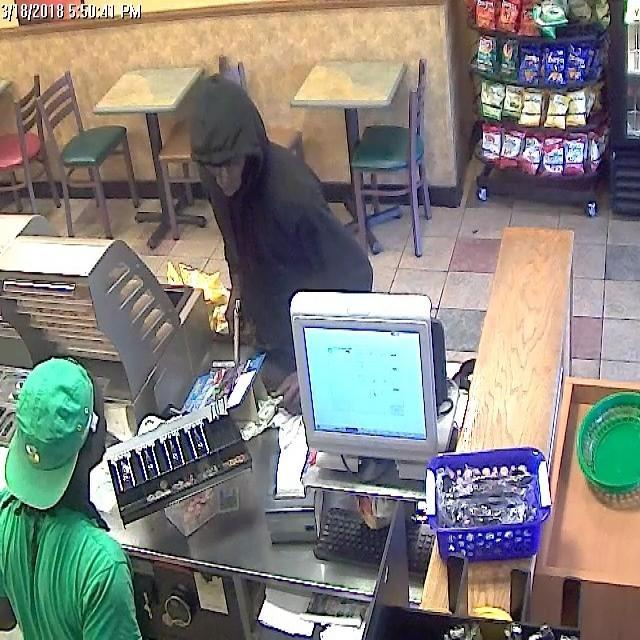weapon: (220, 292, 256, 366)
